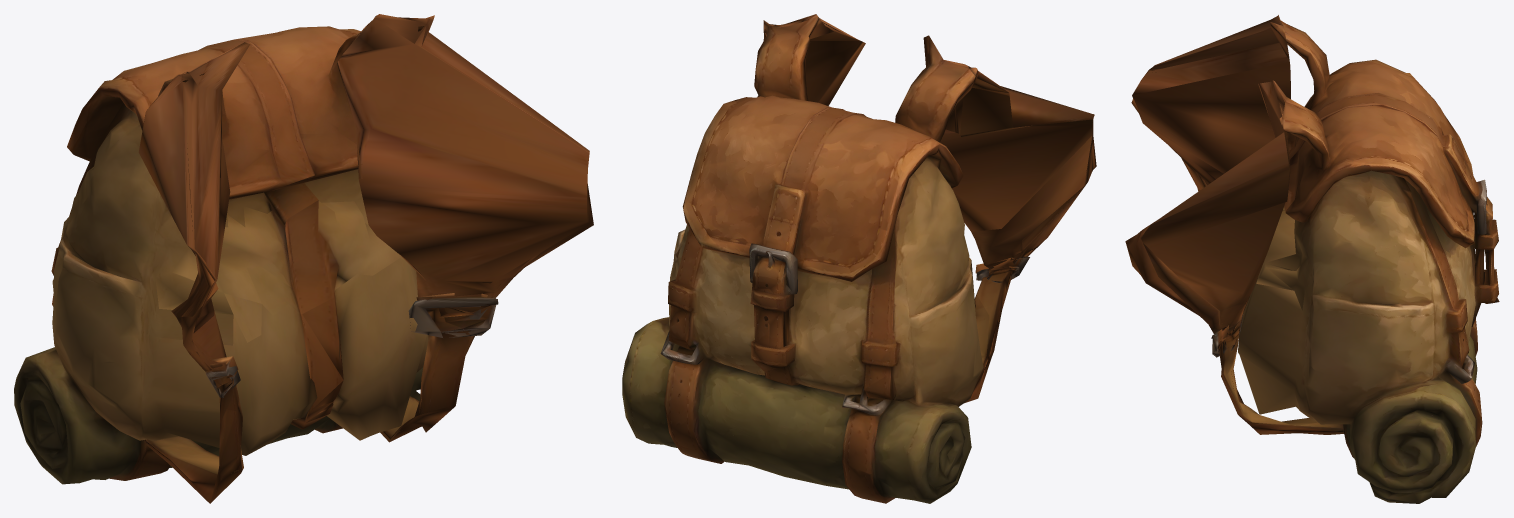
File: small_pack.glb
3 renders of one model, left to right at view 1: azimuth 30°, elevation 25°; view 2: azimuth 150°, elevation 25°; view 3: azimuth 270°, elevation 25°, orthographic. The views are drawn at different scales.
Parts seen in each view (by area): view 1: small_pack; view 2: small_pack; view 3: small_pack.
Boxes of the visible parts, x1=… form: small_pack: x1=14, y1=14, x2=593, y2=503; small_pack: x1=622, y1=14, x2=1096, y2=503; small_pack: x1=1125, y1=15, x2=1499, y2=503.
Size of the model in its own units: 0.3533 by 0.4078 by 0.3542.
Materials: 1 (1 with a texture image).
